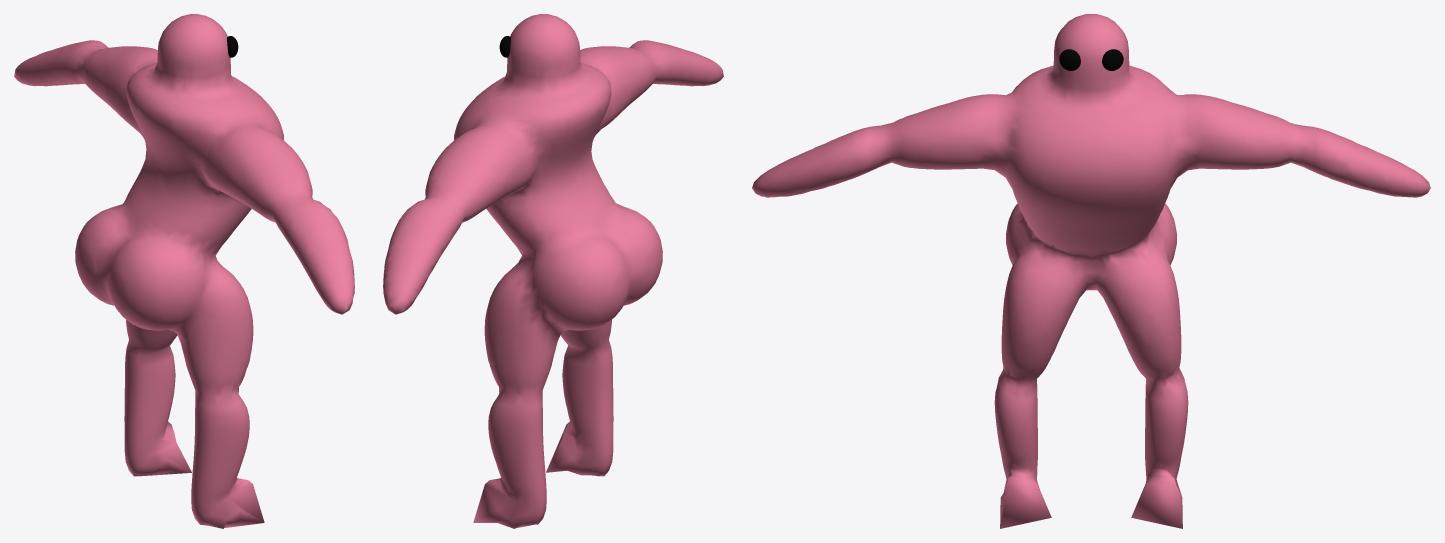
The model's file is mole.fbx.
3 renders of one model, left to right at view 1: azimuth 30°, elevation 25°; view 2: azimuth 150°, elevation 25°; view 3: azimuth 270°, elevation 25°, orthographic. The views are drawn at different scales.
Parts seen in each view (by area): view 1: eyes; view 2: eyes; view 3: eyes.
Part boxes in pixels (box(x1,y1,x2,y2)): eyes: box(14, 14, 354, 528); eyes: box(383, 14, 723, 528); eyes: box(752, 14, 1430, 528).
Bounding box in the file's own units: 176 × 483 × 595.
